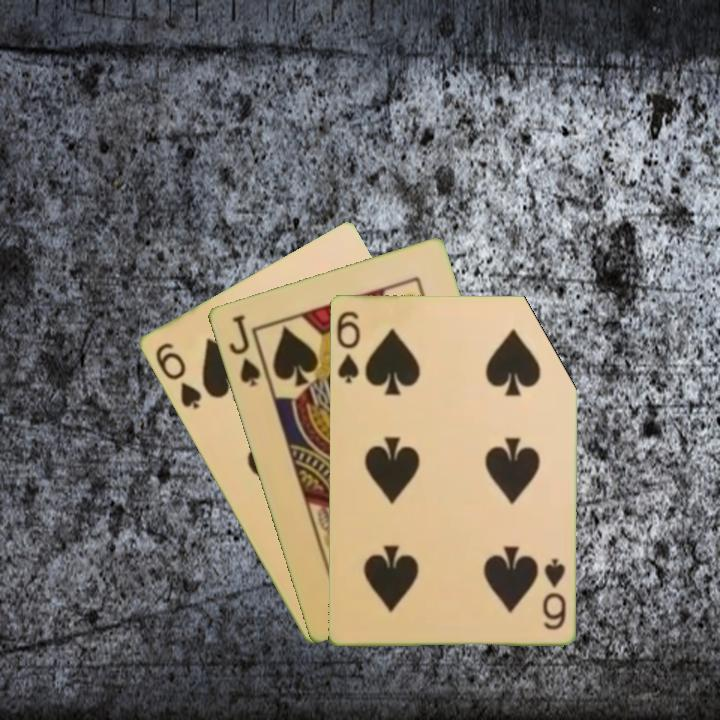6s: (151, 338, 204, 412), (333, 307, 363, 385), (539, 555, 568, 633)
Js: (225, 310, 263, 390)
